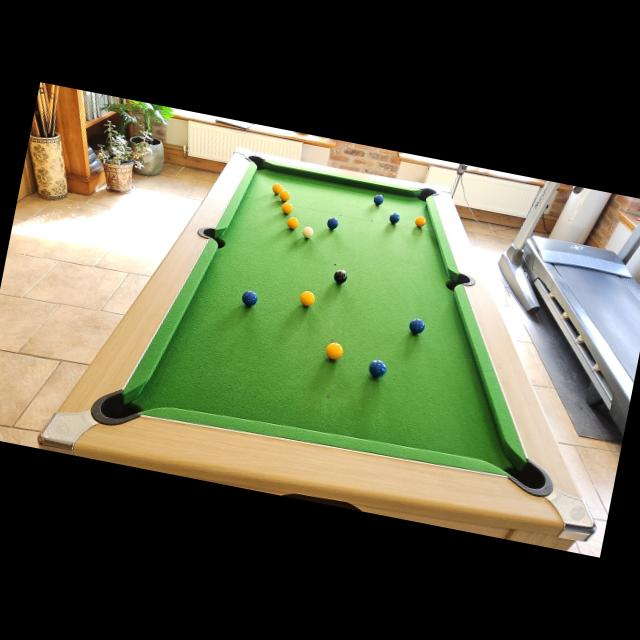Ball: (368, 359, 388, 379), (324, 342, 344, 362), (241, 288, 259, 308), (408, 317, 426, 336), (298, 290, 317, 308), (332, 268, 349, 284), (286, 216, 300, 230), (326, 216, 339, 231), (302, 225, 315, 239), (270, 183, 284, 196), (280, 202, 293, 215), (414, 215, 427, 228), (278, 190, 292, 202), (389, 212, 401, 225), (373, 194, 385, 206)
